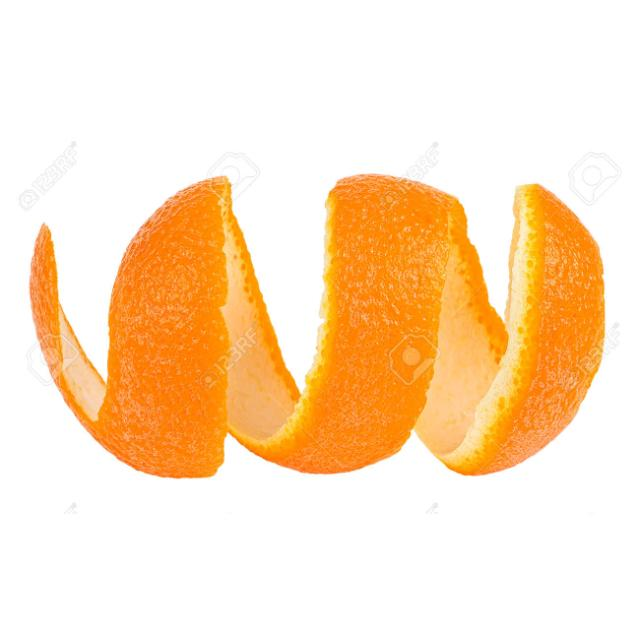organic: (26, 150, 635, 482)
